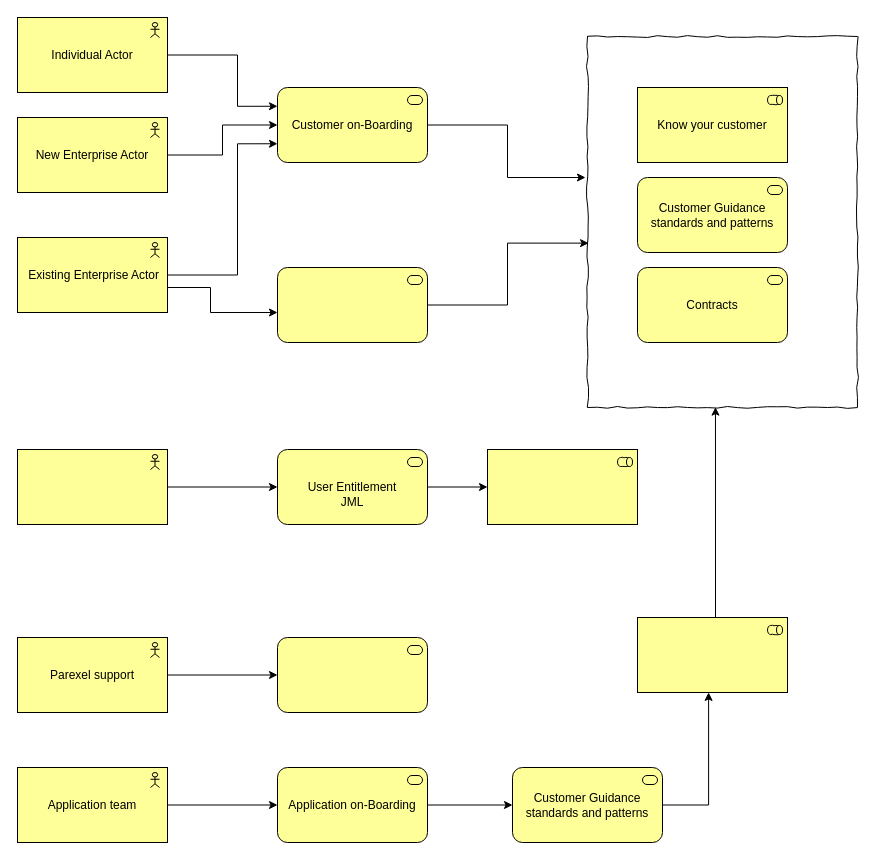
This 875x860 diagram has some shape labels left out. The box of each missing label's shape, as (x1, y1, x2, y2) in pixels:
IAM Team: (636, 616, 788, 692)
Know you customer: (586, 36, 858, 408)
Parexel end user: (16, 448, 168, 524)
Parexel Support team: (486, 448, 638, 524)
Privileged Access Management: (276, 636, 428, 712)
User Migration: (276, 266, 428, 342)
